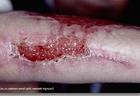NonPU: (9, 11, 139, 74)
